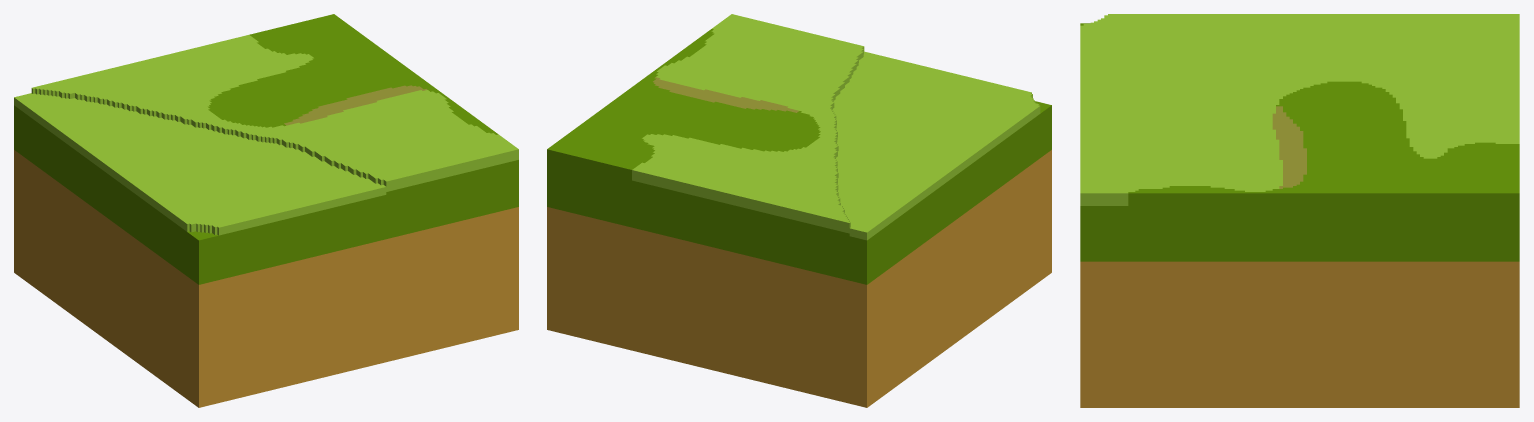
The picture shows the model from 3 angles, left to right: view 1: azimuth 30°, elevation 25°; view 2: azimuth 150°, elevation 25°; view 3: azimuth 270°, elevation 25°; orthographic projection. The views are drawn at different scales.
Visible parts, largest first — view 1: 15J; view 2: 15J; view 3: 15J.
Part boxes in pixels (x1,y1,x2,y2): 15J: [14, 14, 518, 407]; 15J: [547, 14, 1051, 407]; 15J: [1080, 14, 1519, 407].
Size of the model in its own units: 12.8 by 6.9 by 12.8.
1 material, 1 textured.
